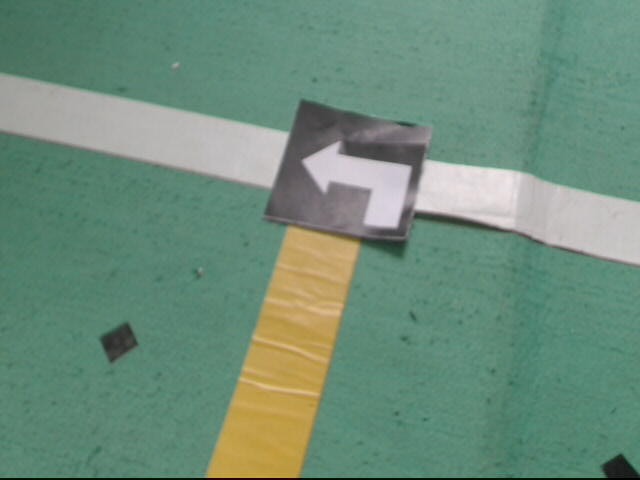left: (261, 101, 434, 244)
